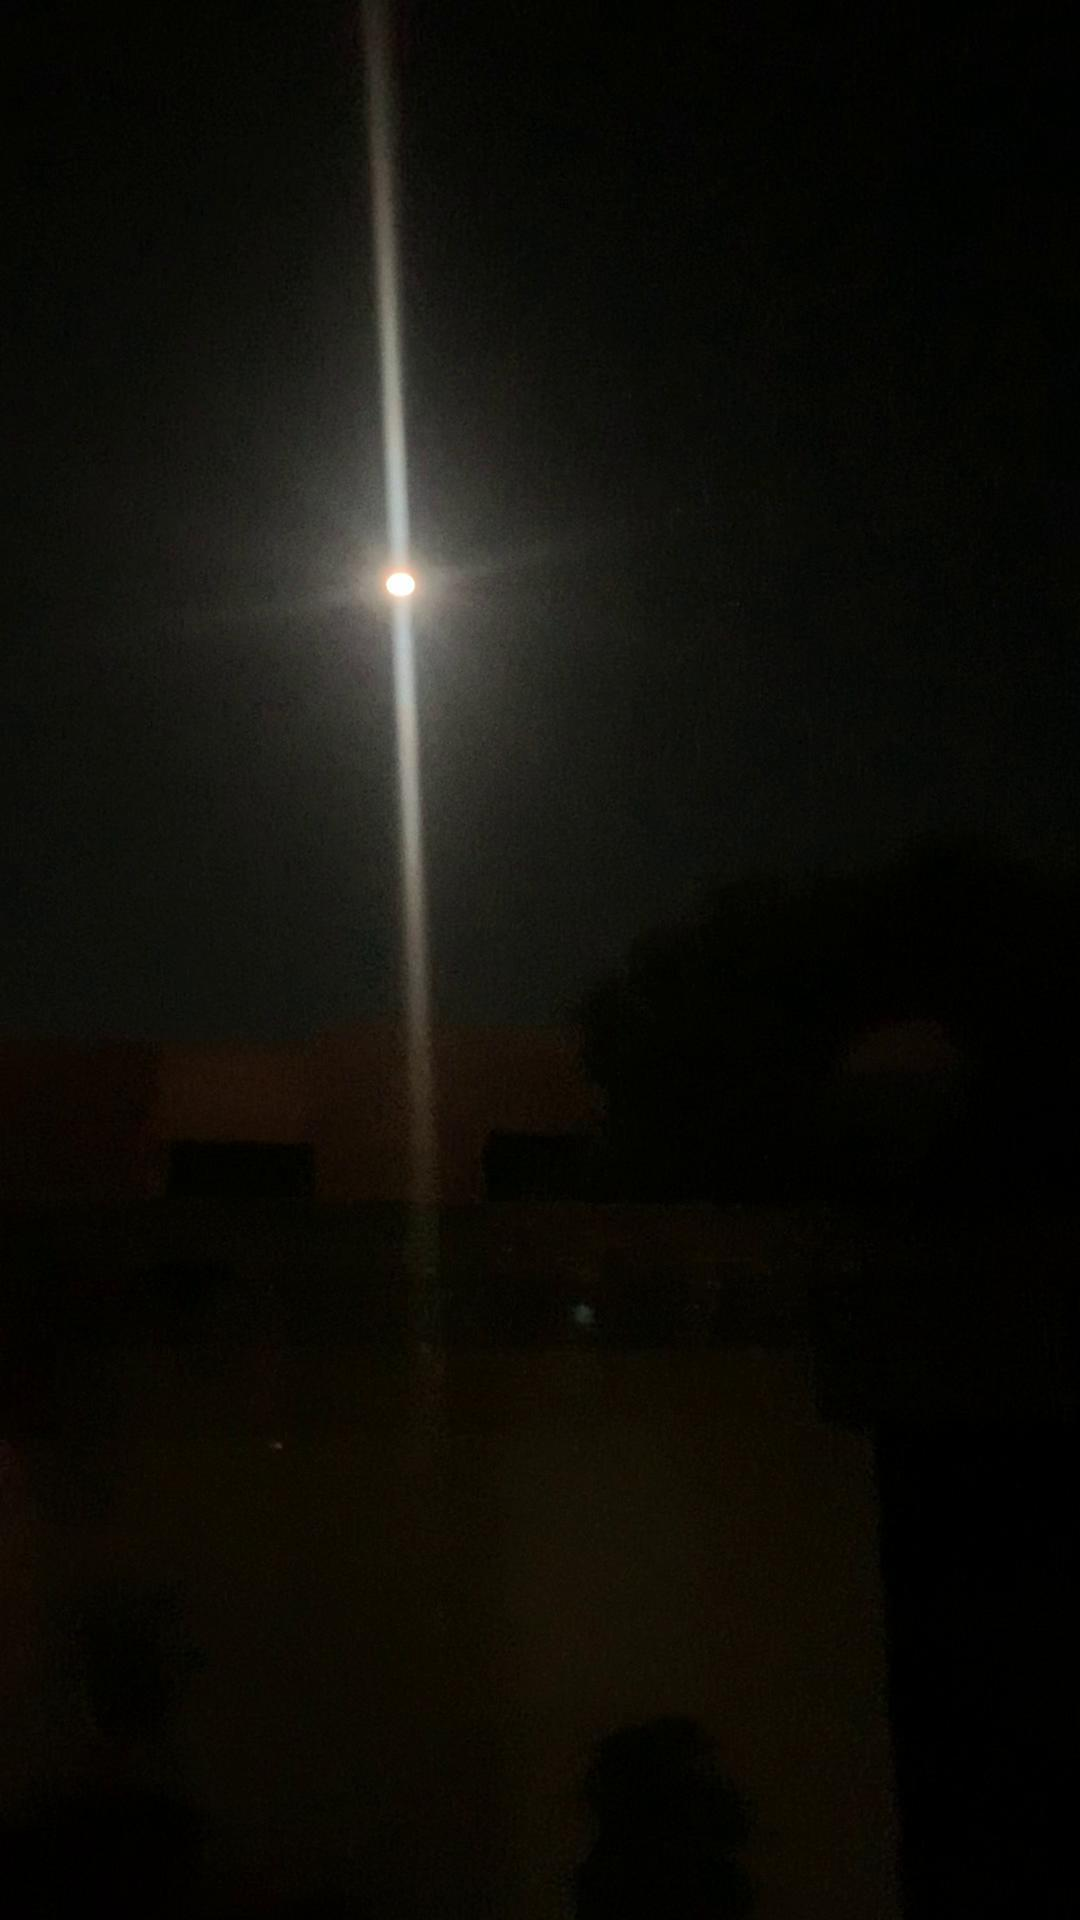moon: (380, 546, 455, 624)
